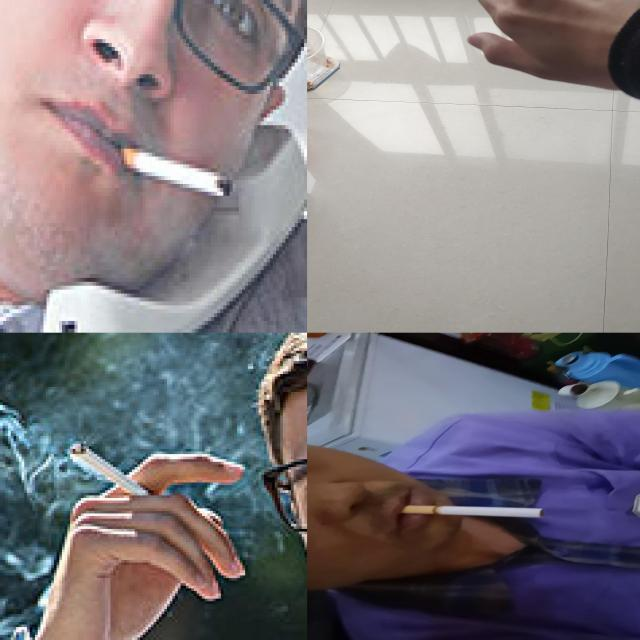smoke: (109, 142, 234, 198), (64, 438, 151, 496), (400, 506, 547, 518)
